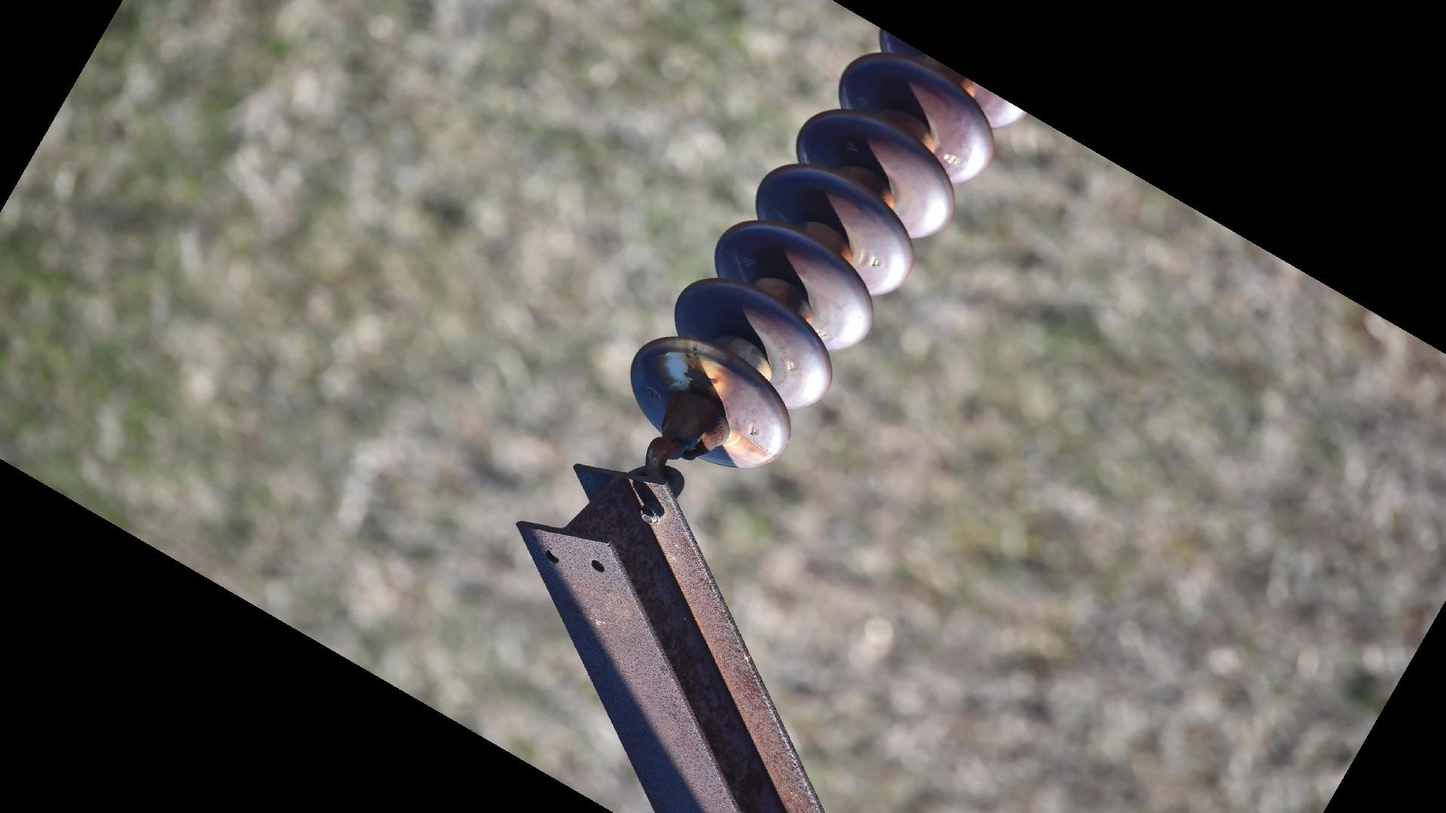insulator: (624, 23, 1033, 474)
insulator_flashover: (663, 335, 732, 391), (721, 428, 770, 466)
